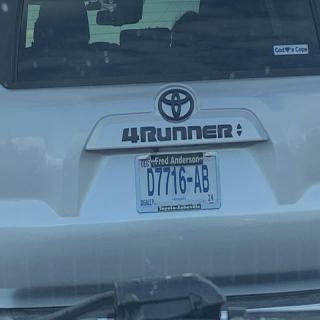license: (135, 152, 222, 215)
